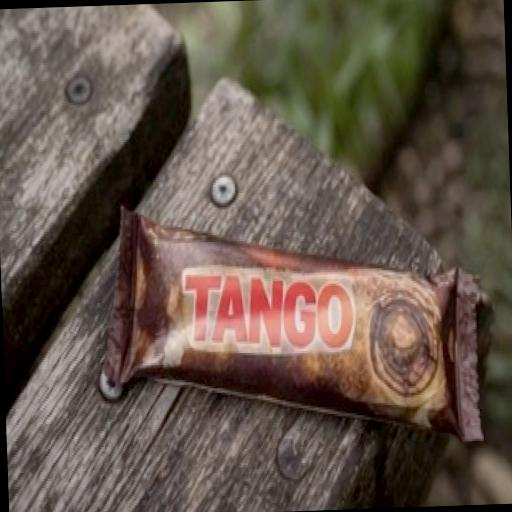tango: (72, 129, 506, 498)
